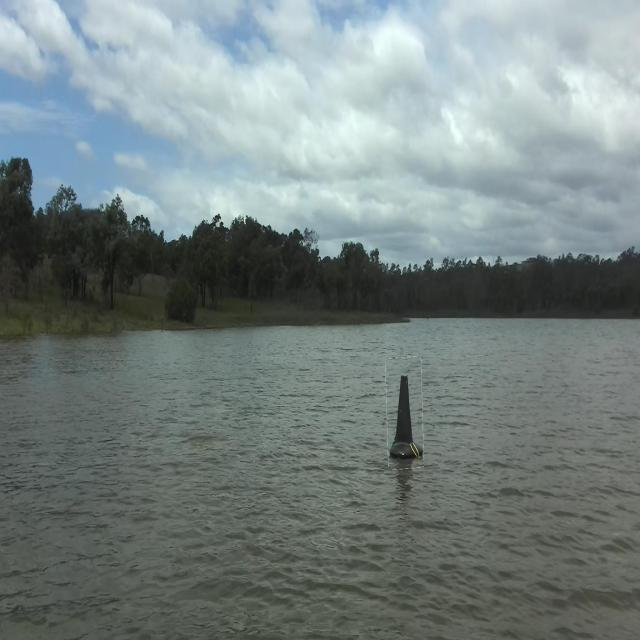Black_Buoy: (385, 363, 422, 469)
